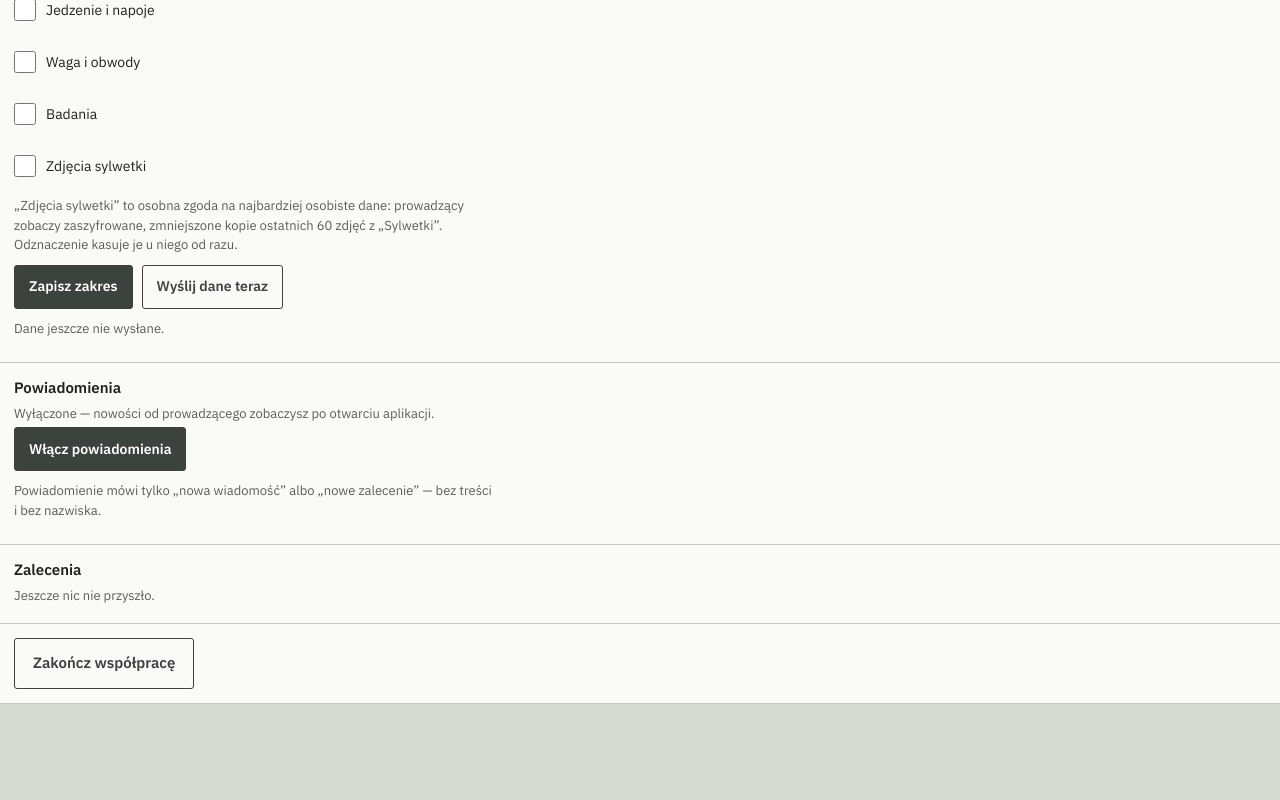
it: strona współpracy › wyłączone → włącz → wyłącz; stan i przełącznik w sekcji „Powiadomienia”
(page scrolled)
Expected: the message shows "Wyłączone", top-left (14, 404), bottom-right (435, 422)
Expected: the text "tylko „nowa wiadomość” albo „nowe zalecenie” — bez treści" is shown, top-left (14, 482), bottom-right (492, 518)
What coordinates should you click on to do the following:
click the button "Włącz powiadomienia"
I would click on:
 (100, 449)
Its box is top-left (14, 427), bottom-right (186, 471).
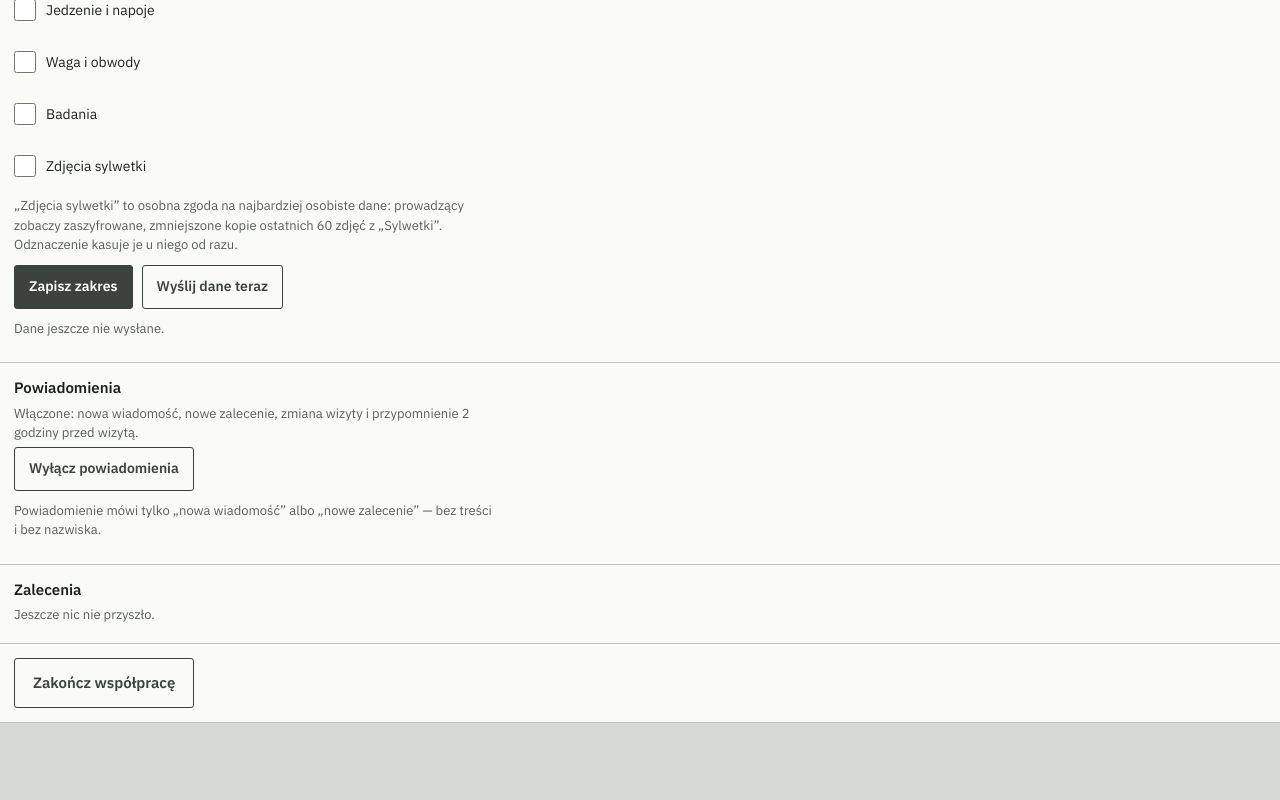
Now the message shows "Włączone", box top-left (14, 404), bottom-right (470, 441)
What coordinates should you click on to do the following:
click the button "Wyłącz powiadomienia"
I would click on:
 (104, 468)
Its box is top-left (14, 446), bottom-right (194, 490).
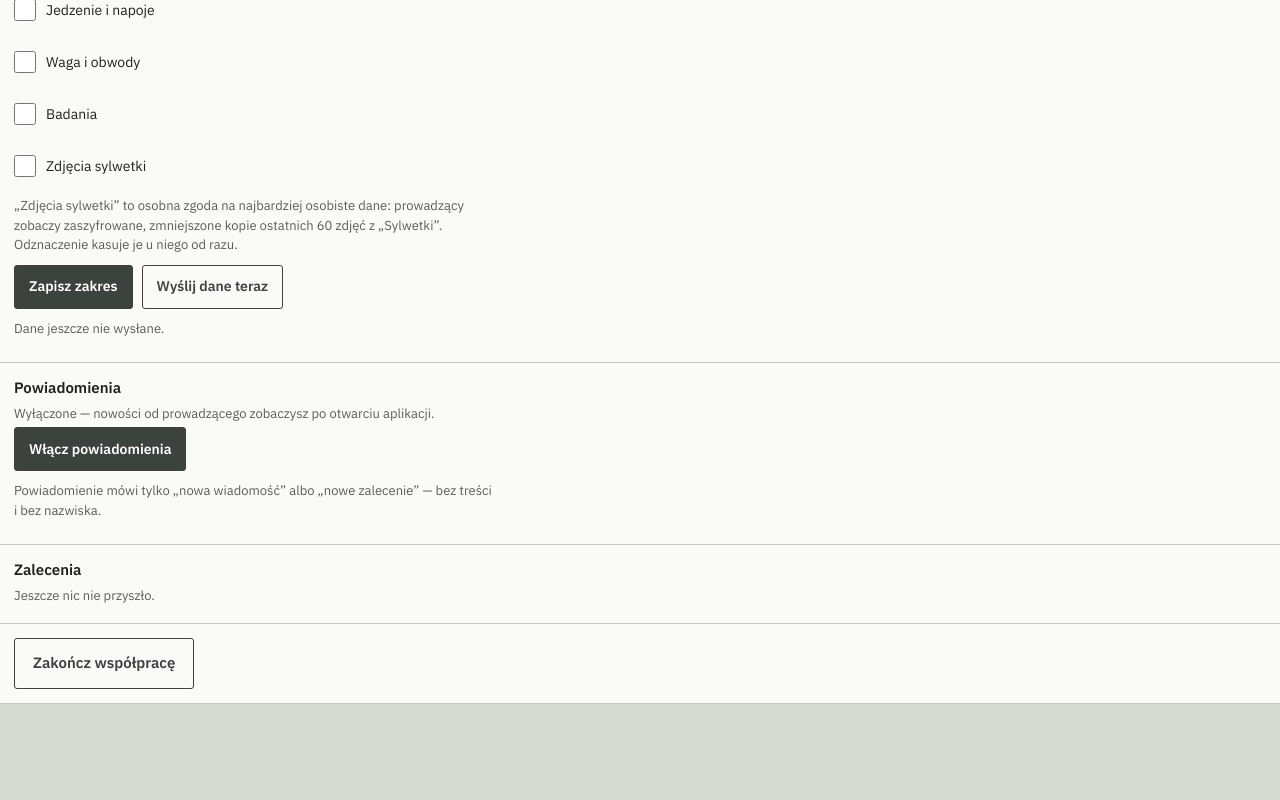
Now the message shows "Wyłączone", box top-left (14, 404), bottom-right (435, 422)
